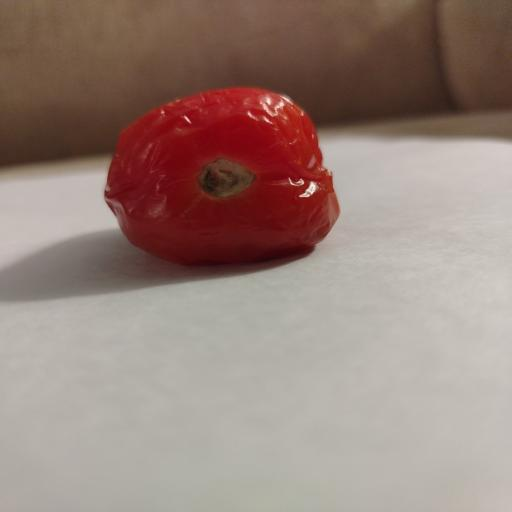spoiled: (105, 88, 339, 264)
